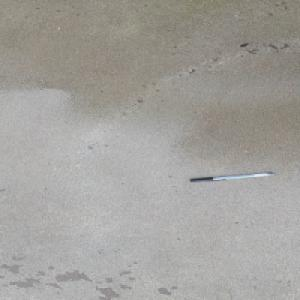Pen: (188, 171, 275, 182)
